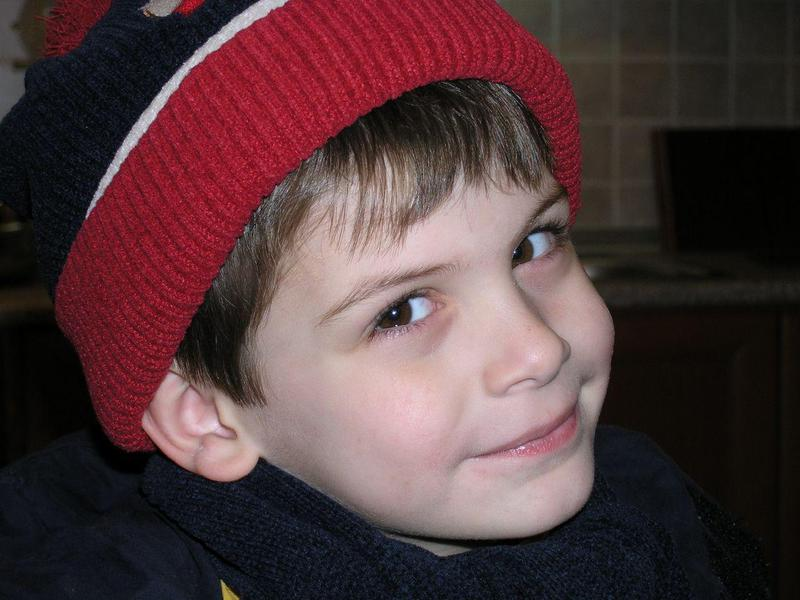person: (1, 1, 771, 593)
